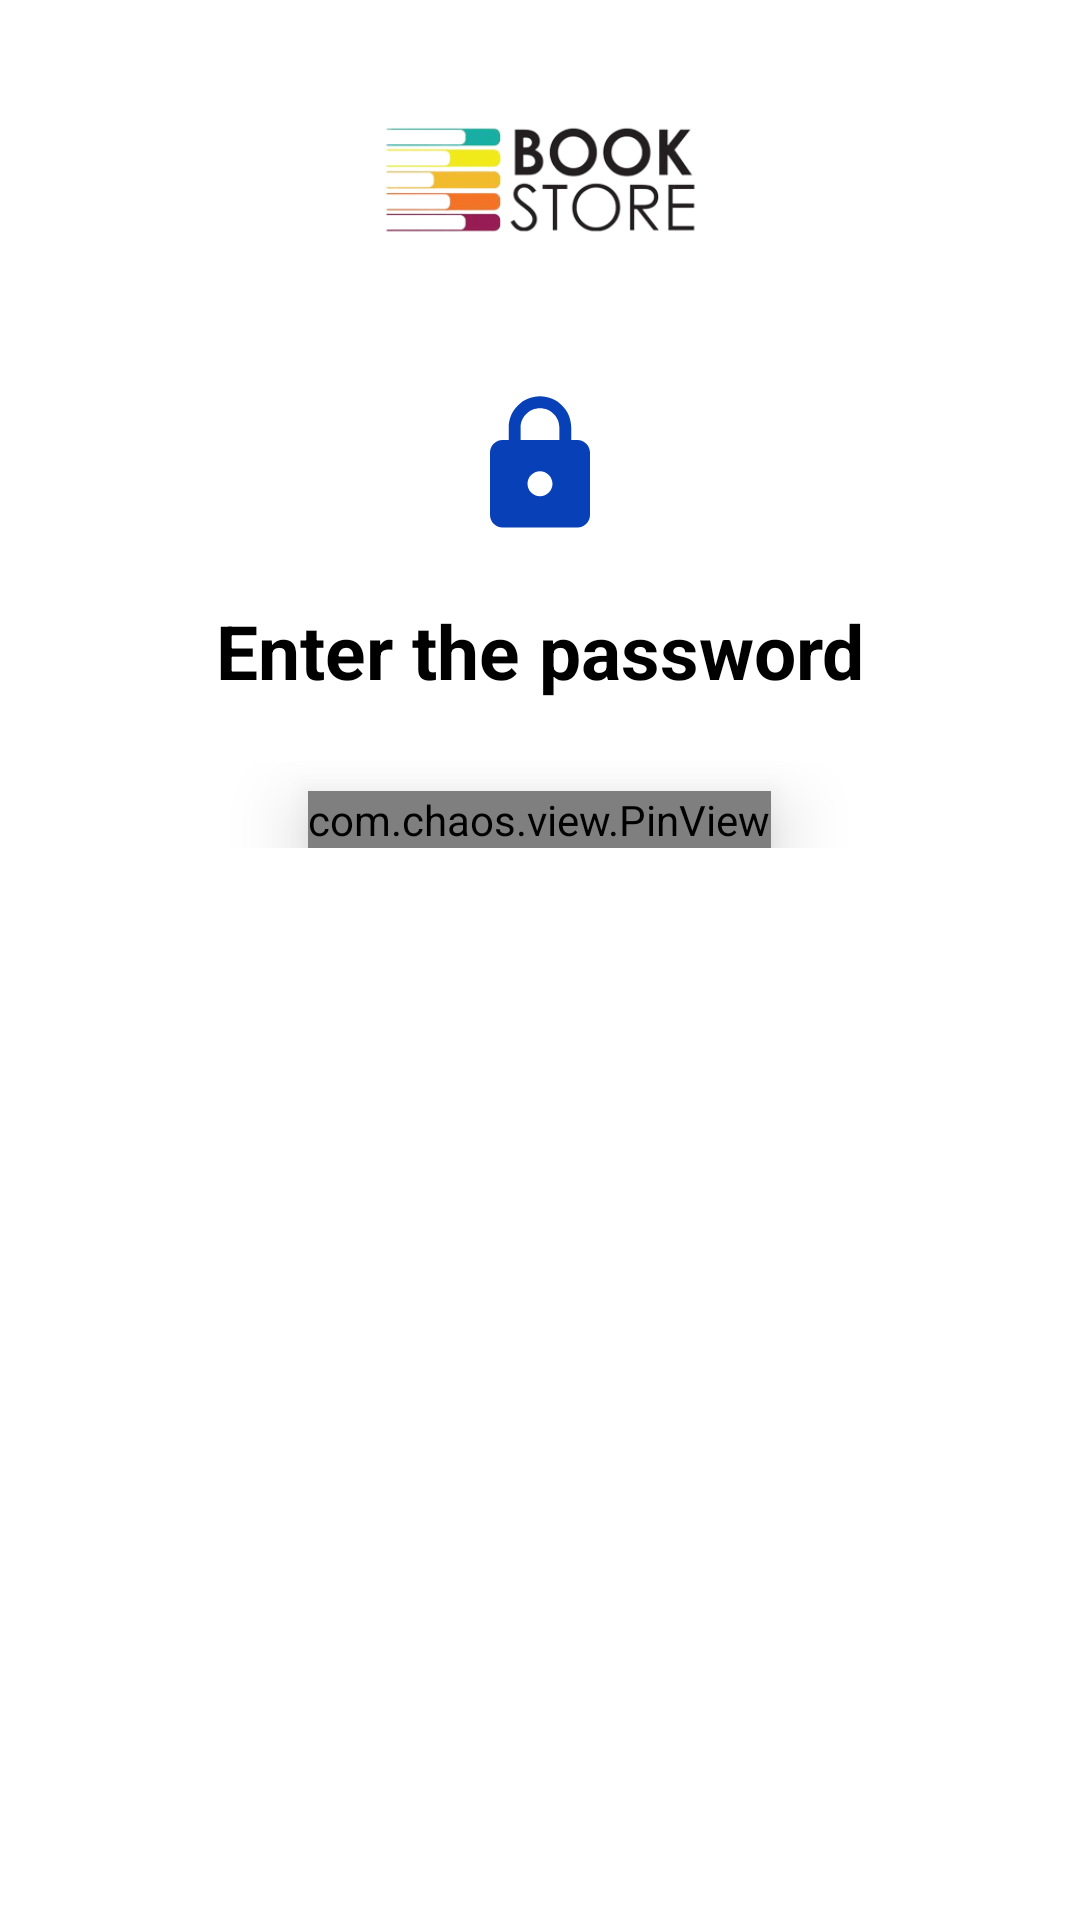

Screen size 1080 x 1920. Icon name, then its box in pixels as (x1=x1, y1=y1, x2=x2, y2=y2):
lock: (x1=490, y1=396, x2=590, y2=528)
